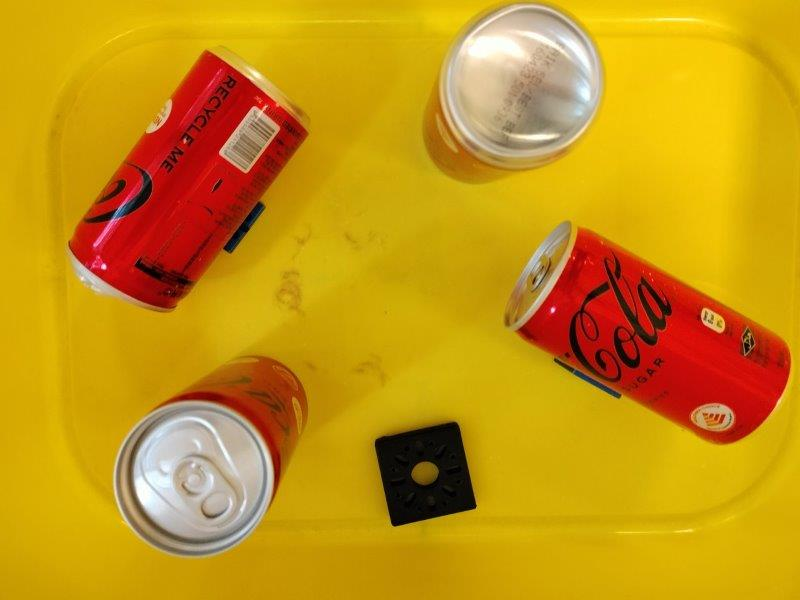Coke: (69, 46, 313, 316), (502, 220, 792, 445), (111, 356, 308, 557), (422, 1, 606, 186)
